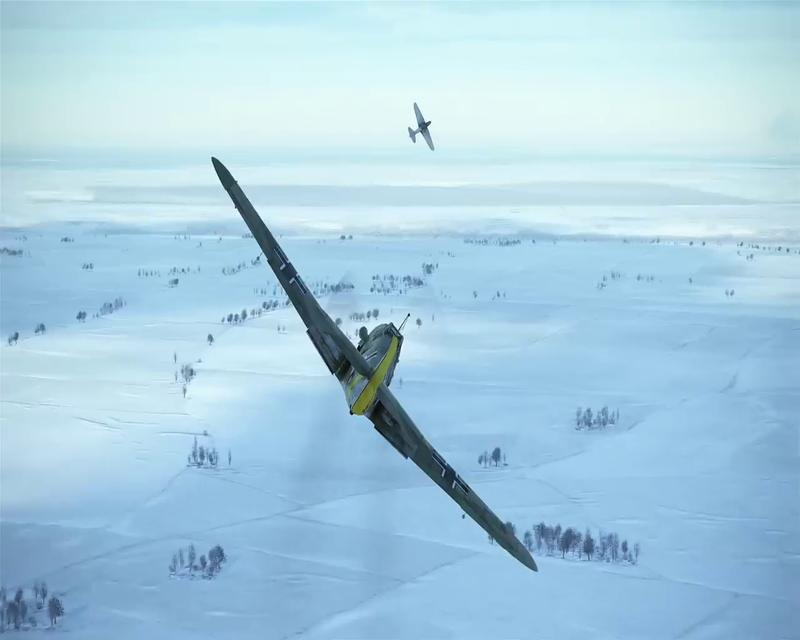UAV: (209, 156, 539, 573), (406, 101, 438, 151)
